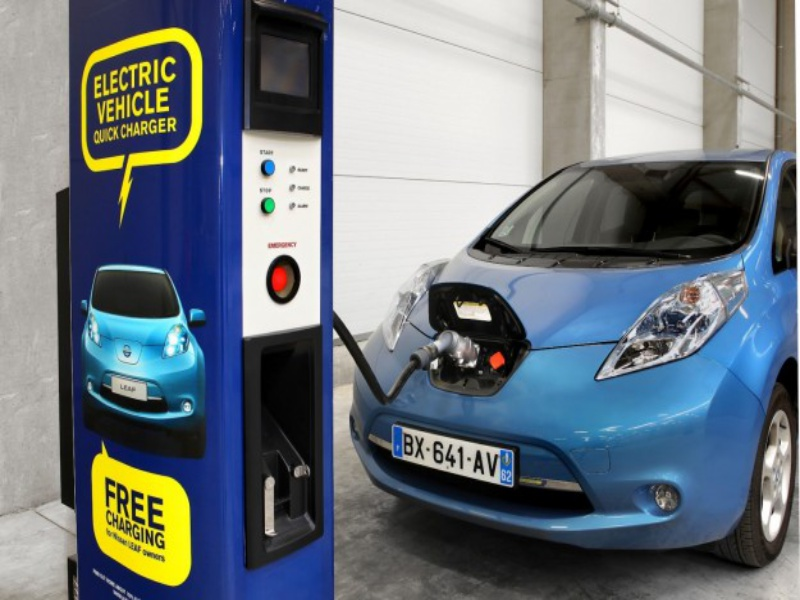licence_plate: (387, 416, 532, 494)
